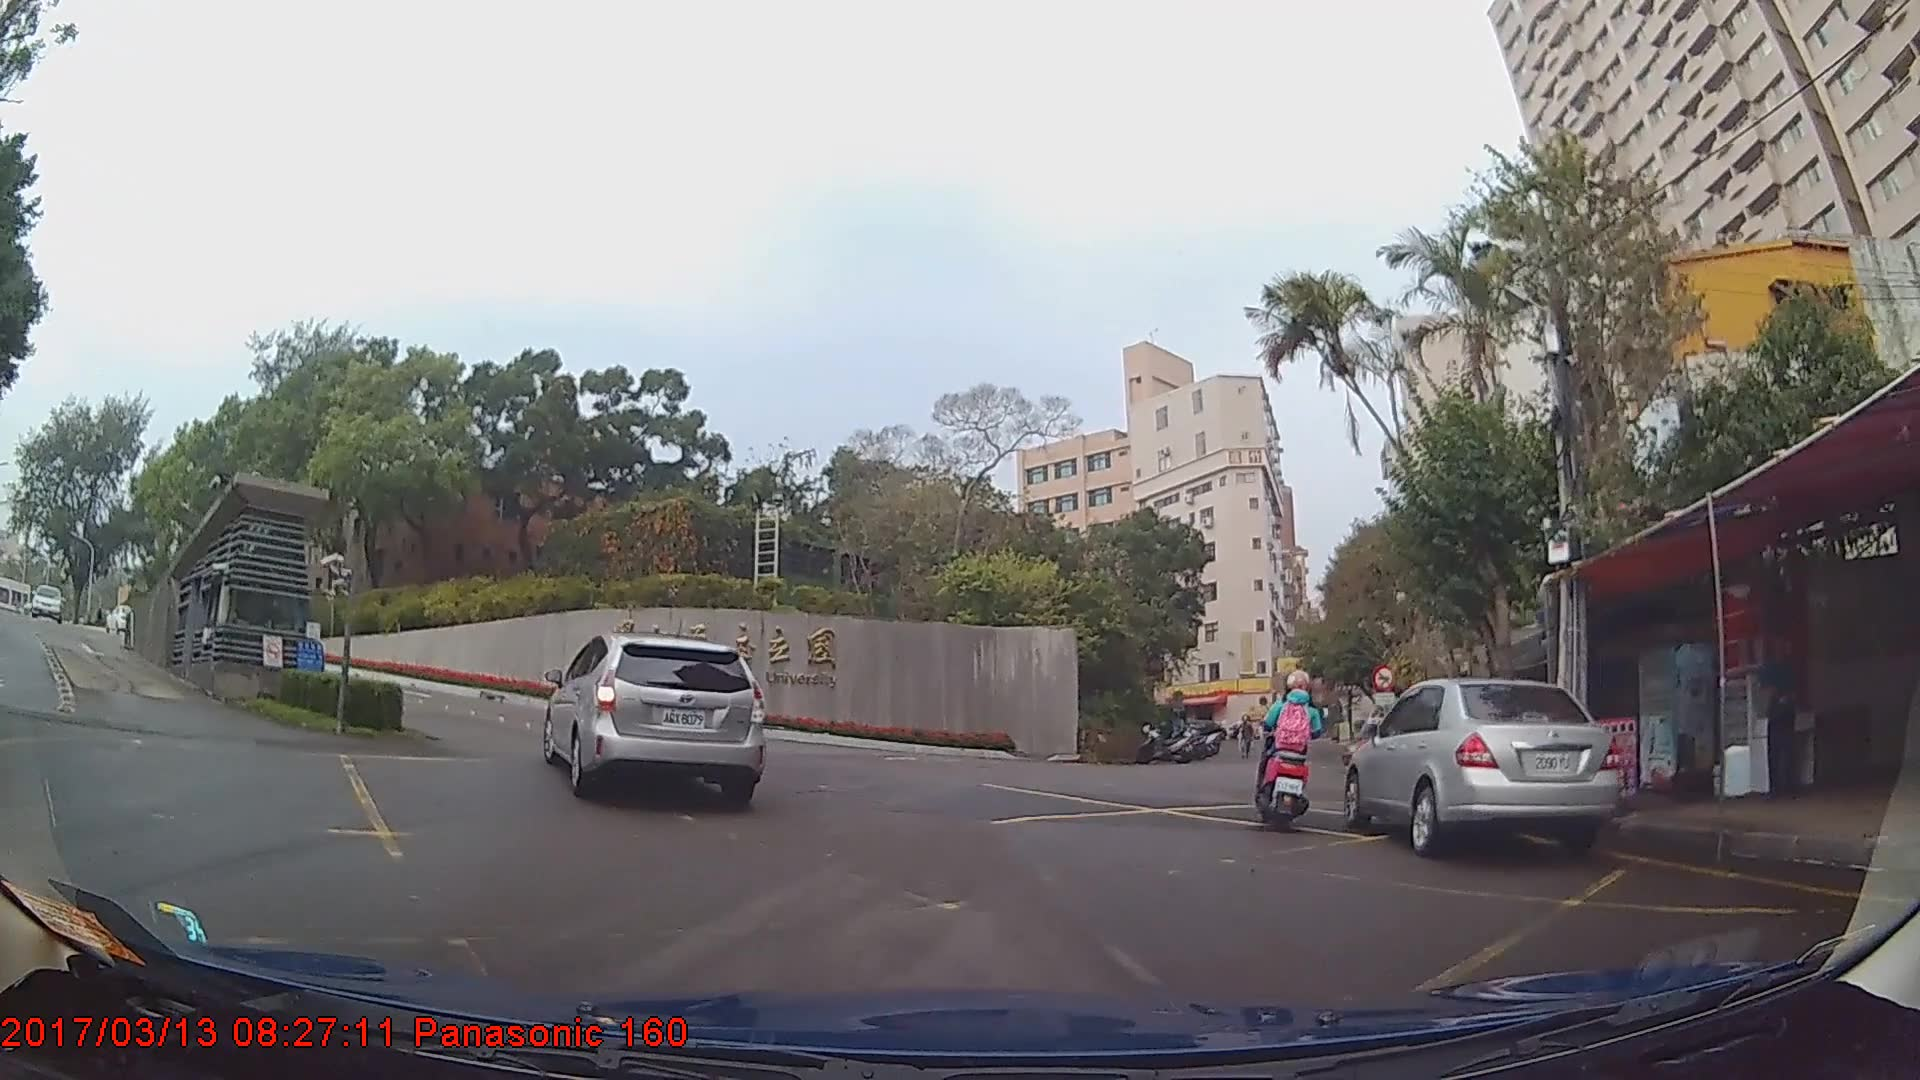pedestrian: (1757, 632, 1805, 795), (1236, 712, 1256, 757)
rider: (1253, 666, 1327, 836)
vehicle: (1345, 675, 1624, 855), (541, 629, 763, 806), (27, 583, 64, 622), (104, 604, 139, 634)
